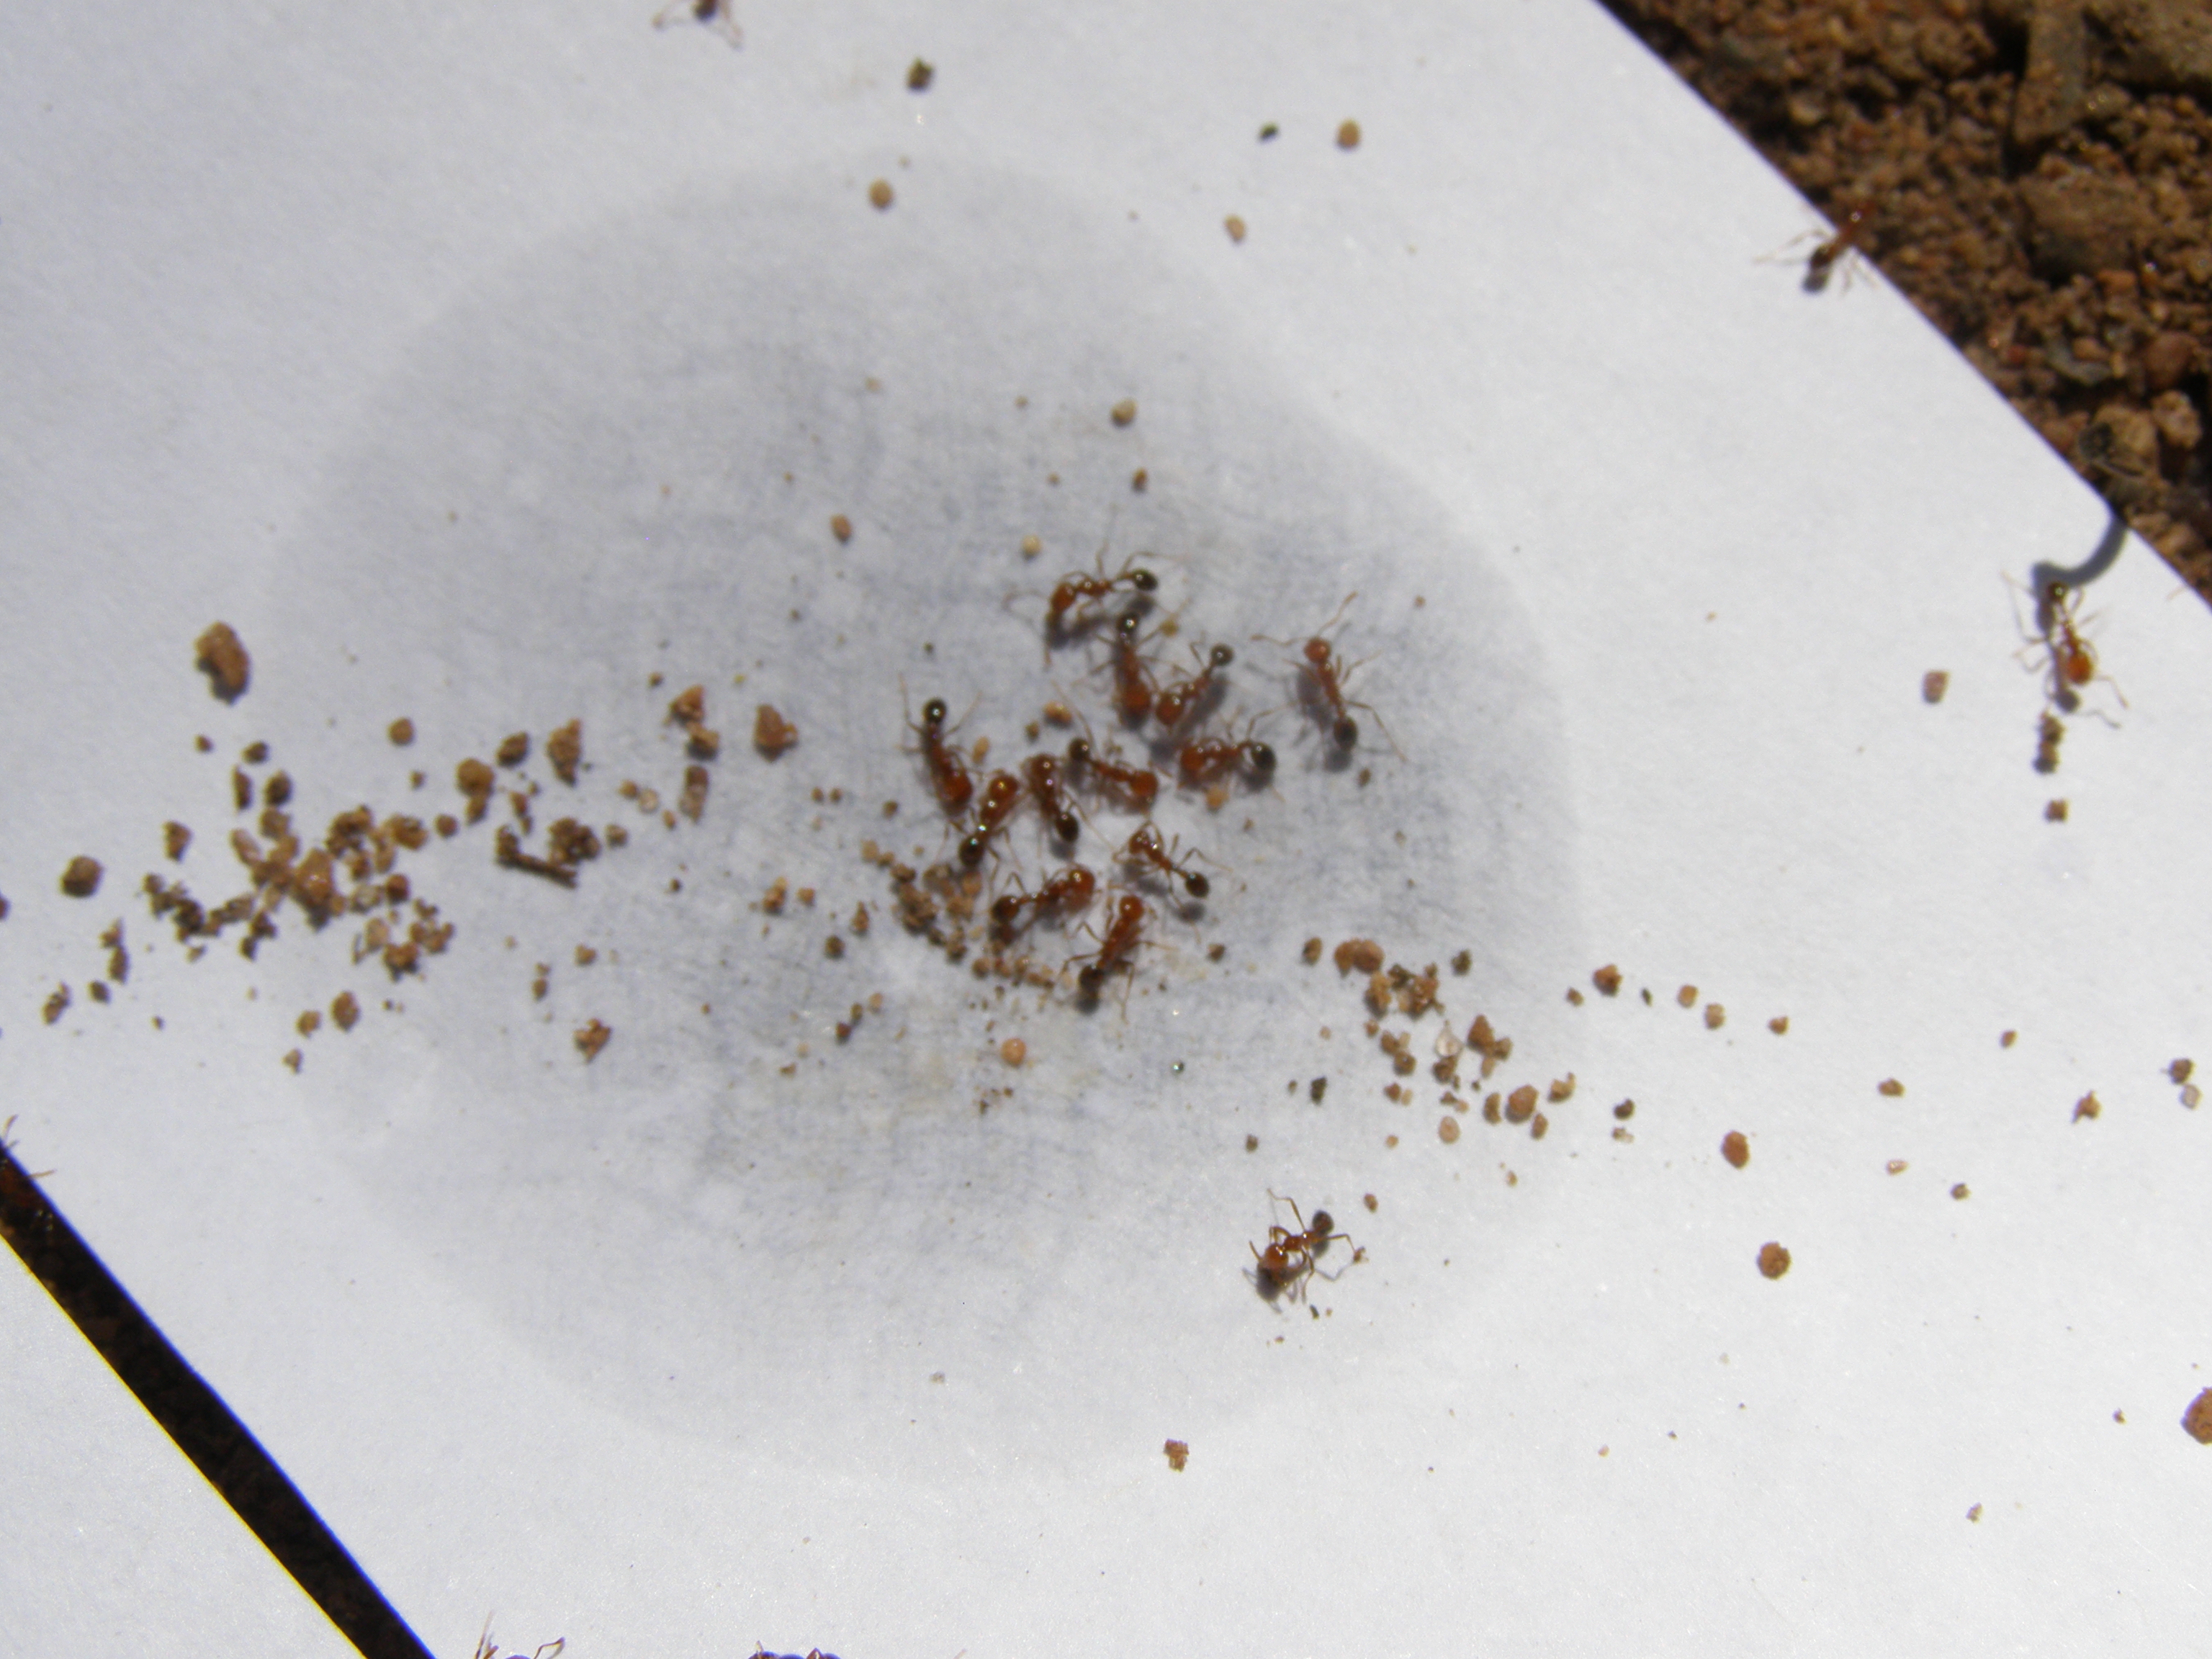Solenopsis_geminata: (1973, 516, 2156, 814), (1247, 568, 1425, 800), (1223, 1164, 1390, 1359), (1052, 880, 1172, 1044), (1167, 709, 1291, 810), (1115, 812, 1233, 915), (1150, 619, 1252, 728), (979, 847, 1104, 936), (1066, 721, 1167, 814)
